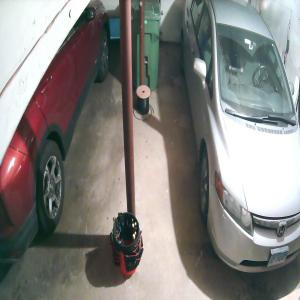garbage bin: (131, 0, 161, 91)
honda civic: (180, 0, 300, 274)
honda crv: (0, 0, 111, 267)
tool bucket: (110, 211, 144, 277)
